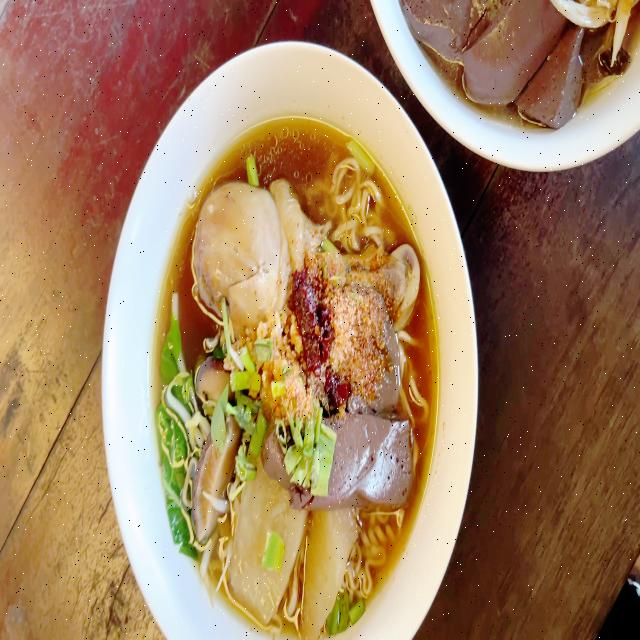boiled_chicken_blood_jelly: (403, 0, 588, 121), (330, 415, 409, 507), (378, 312, 400, 408), (260, 424, 286, 479)
chicken_drumstick: (188, 186, 418, 332)
daikon_radish: (234, 500, 351, 618)
noodle: (165, 135, 437, 621)
